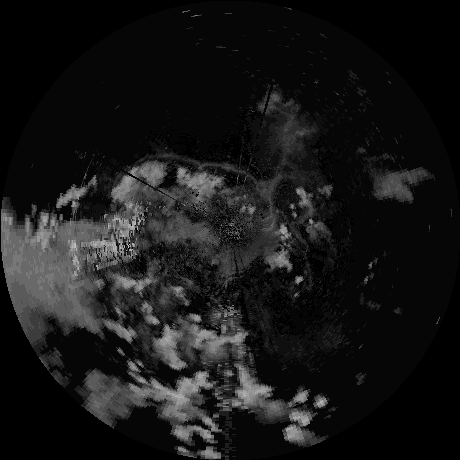frontgust: (202, 159, 274, 211), (294, 225, 316, 287), (137, 152, 202, 166)
